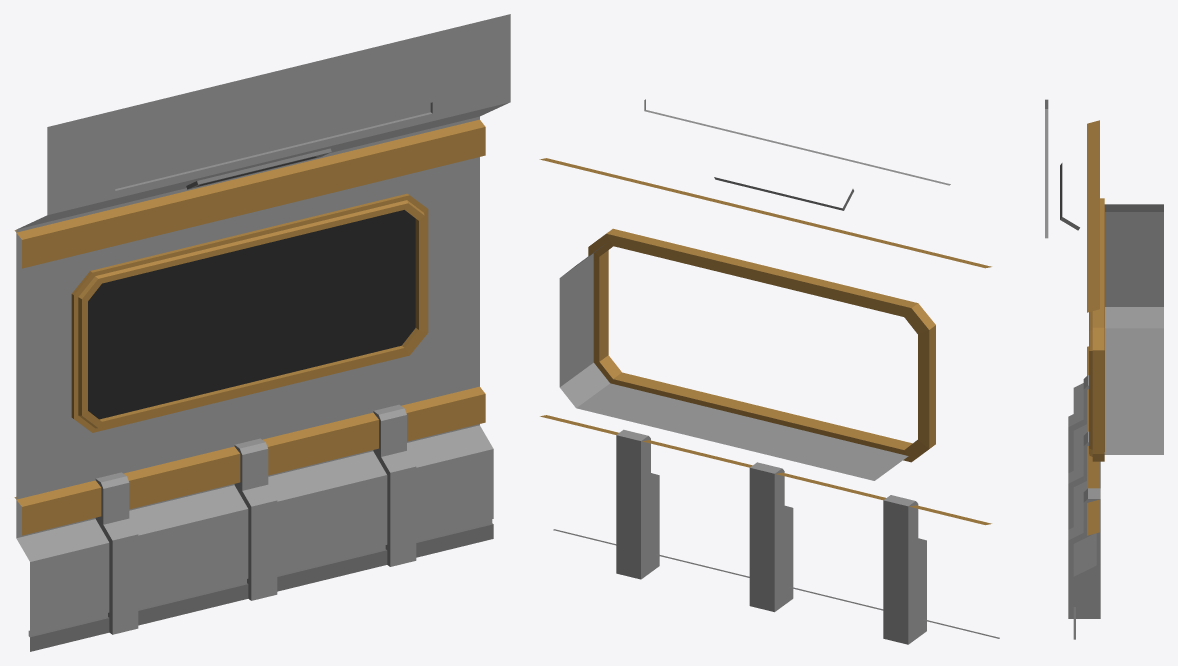
File: Window_Wall_SideA.glb
3 renders of one model, left to right at view 1: azimuth 30°, elevation 25°; view 2: azimuth 150°, elevation 25°; view 3: azimuth 270°, elevation 25°, orthographic. The views are drawn at different scales.
Parts seen in each view (by area): view 1: Window_Wall_SideA_Plane.003; view 2: Window_Wall_SideA_Plane.003; view 3: Window_Wall_SideA_Plane.003.
Boxes of the visible parts, bbox=[...] form: Window_Wall_SideA_Plane.003: bbox=[14, 14, 510, 651]; Window_Wall_SideA_Plane.003: bbox=[539, 99, 999, 644]; Window_Wall_SideA_Plane.003: bbox=[1045, 99, 1163, 639].
Bounding box in the file's own units: 4 × 4.43 × 1.06.
